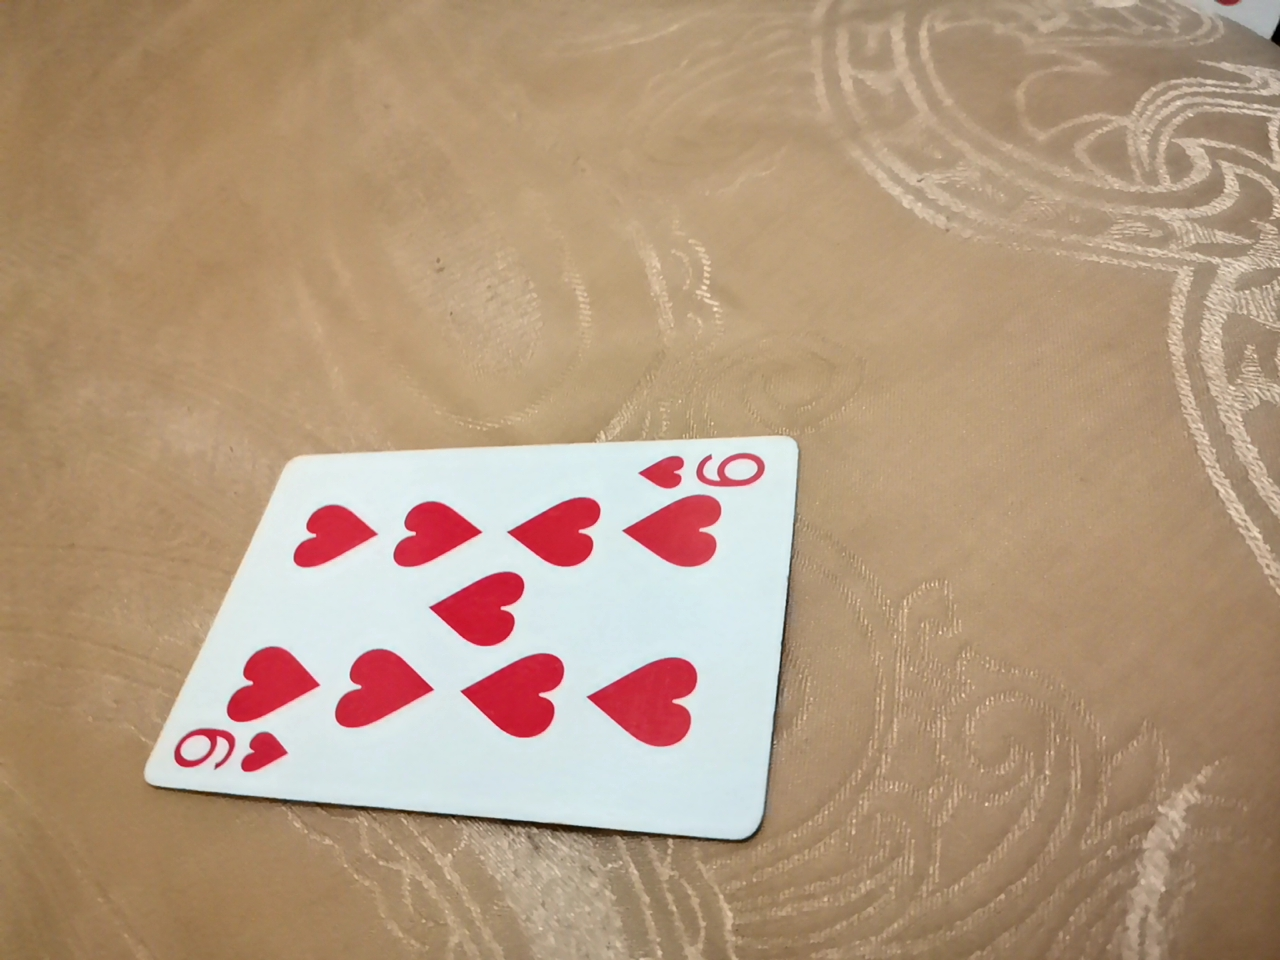hx 9: (234, 405, 820, 817)
